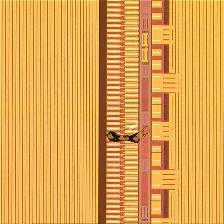PARTICLE: (104, 123, 155, 147)
